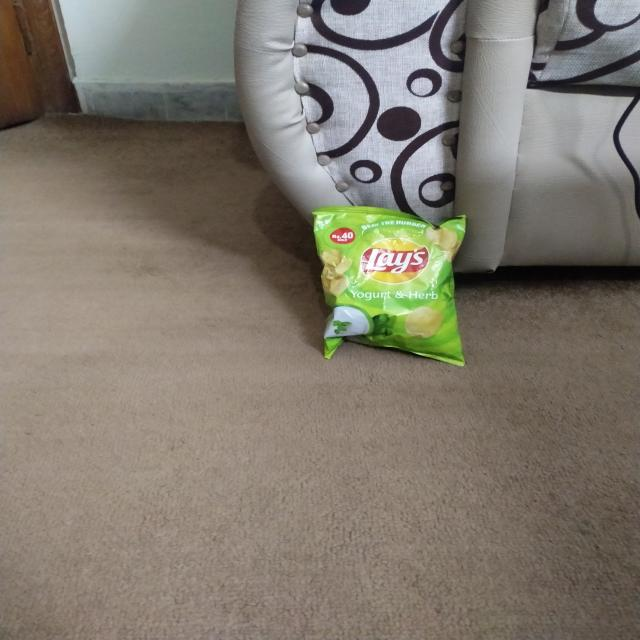Plastic: (321, 206, 458, 362)
